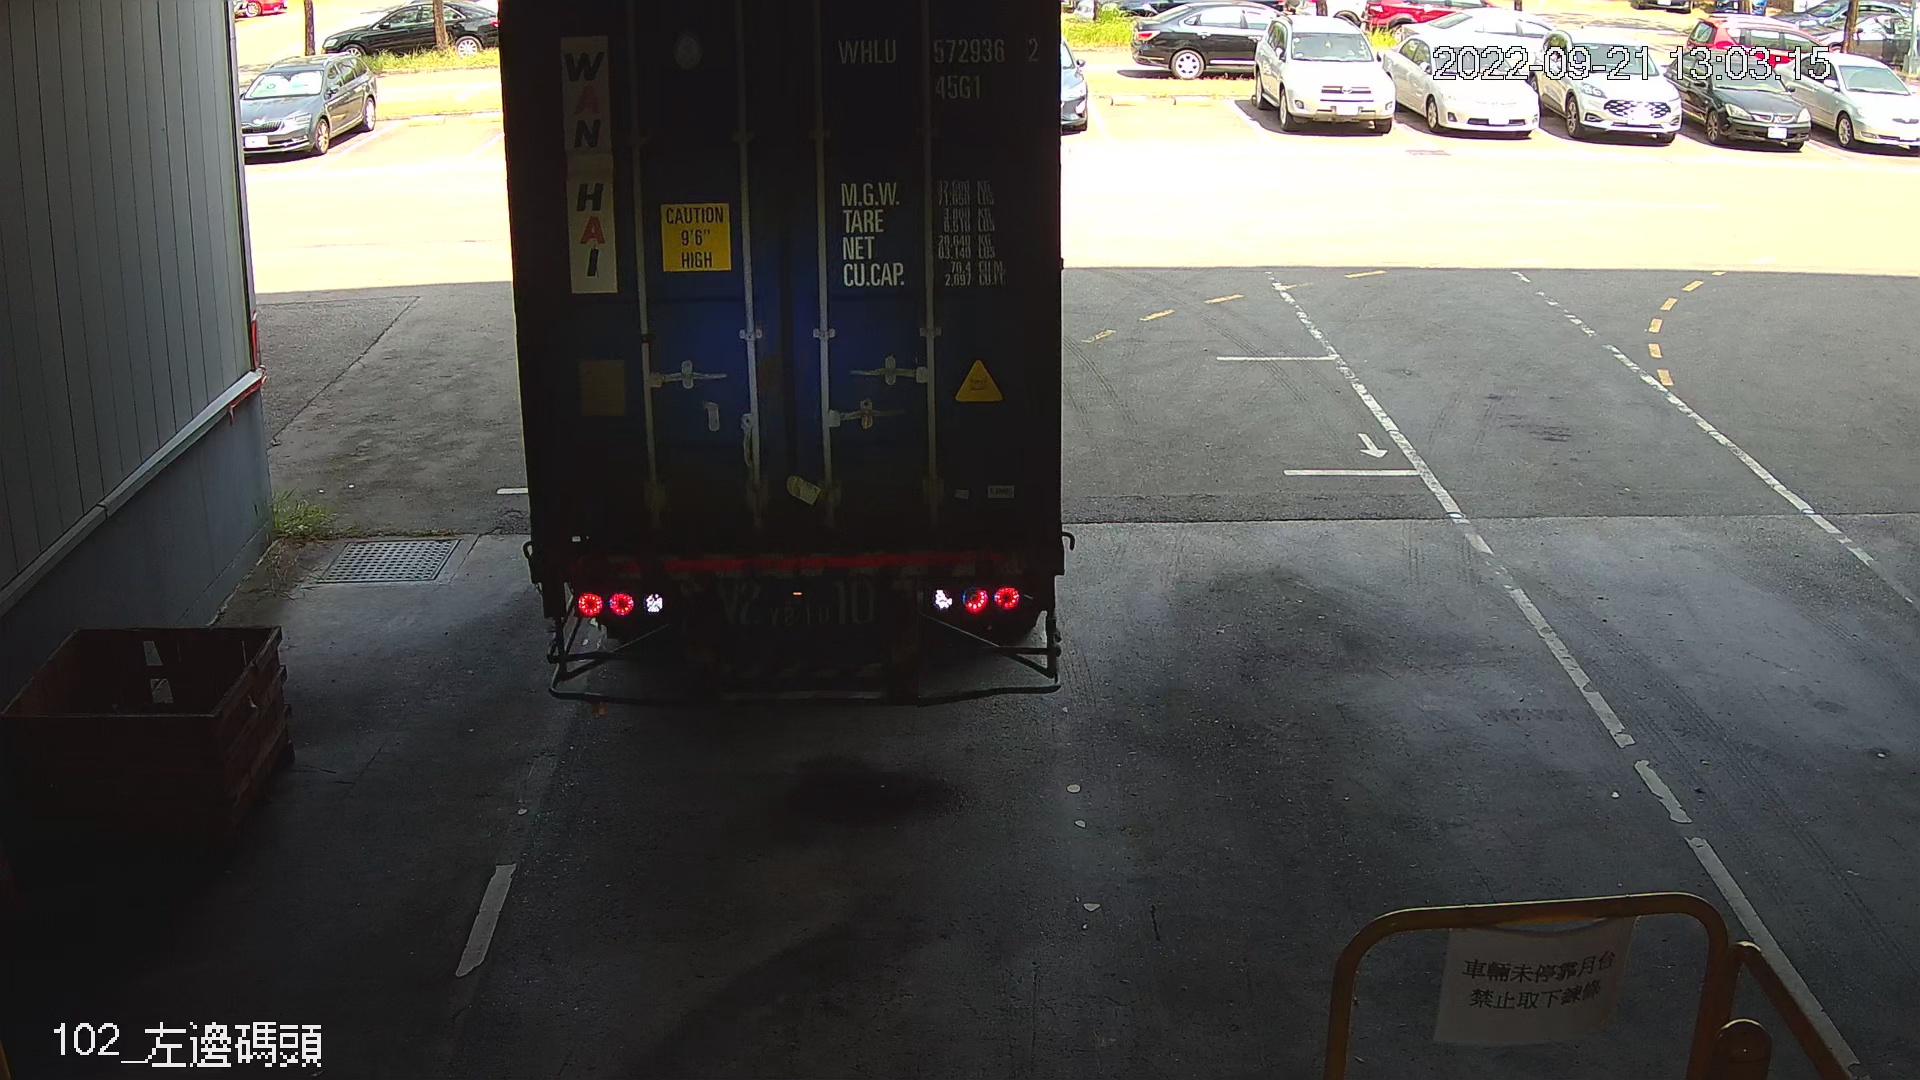container: (825, 26, 1050, 108)
